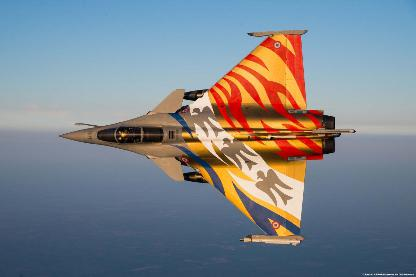RQ4: (57, 29, 356, 246)
